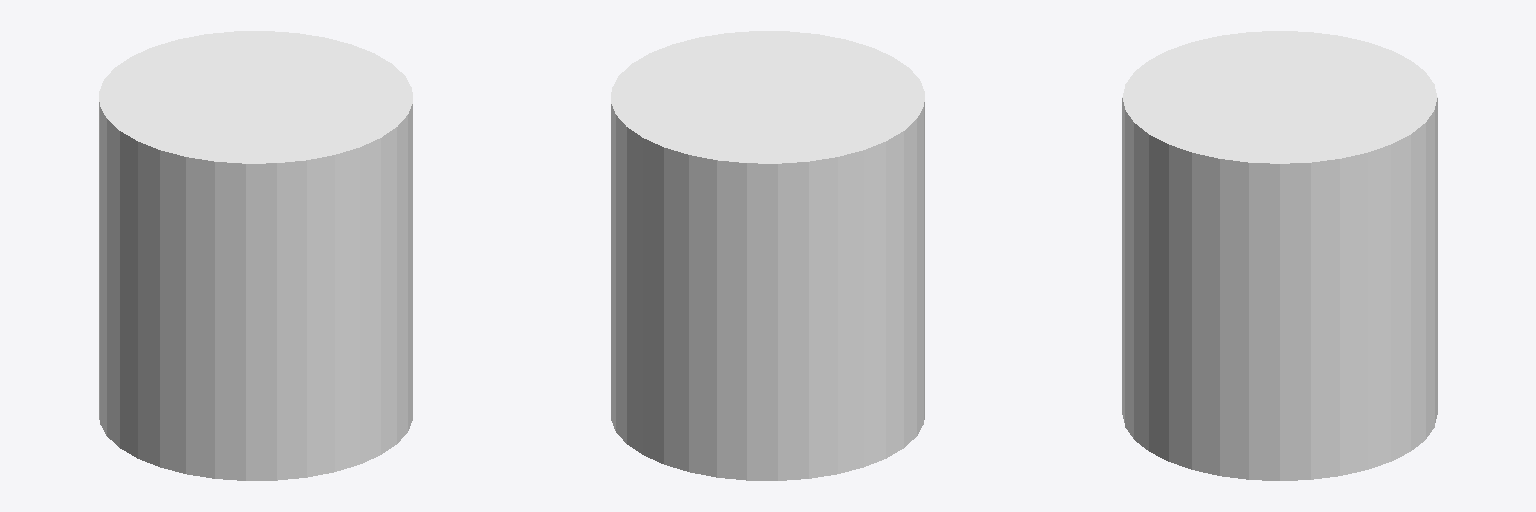
Rendered from test_barrel.obj.
3 views of the same model, side by side, from view 1: azimuth 30°, elevation 25°; view 2: azimuth 150°, elevation 25°; view 3: azimuth 270°, elevation 25° (orthographic).
Visible parts, largest first — view 1: Cylinder2; view 2: Cylinder2; view 3: Cylinder2.
Part boxes in pixels (x1,y1,x2,y2): Cylinder2: (99,31,412,480); Cylinder2: (611,31,924,480); Cylinder2: (1122,31,1437,480).
Size of the model in its own units: 0.9 by 1 by 0.9.